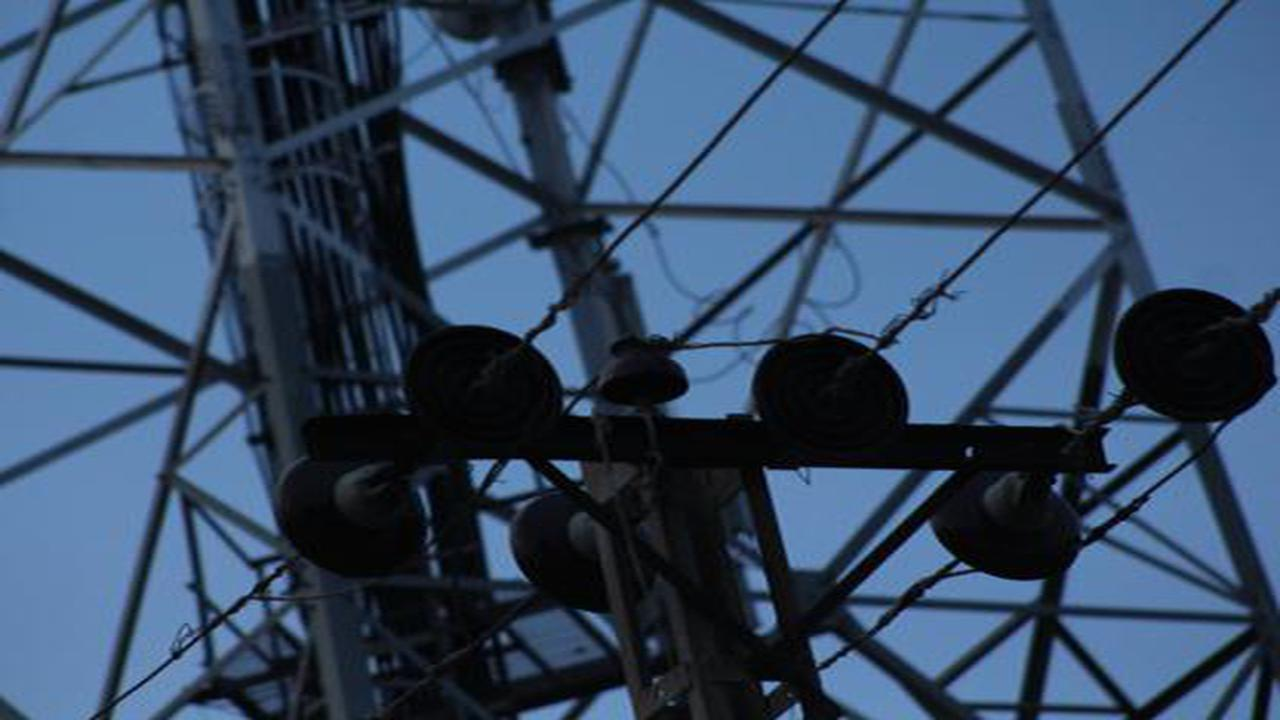insulator_disc: (400, 320, 568, 459), (1111, 283, 1269, 425), (273, 456, 432, 583), (929, 456, 1087, 583), (505, 484, 662, 611), (753, 330, 913, 454)
insulator_pin: (590, 331, 693, 408)
